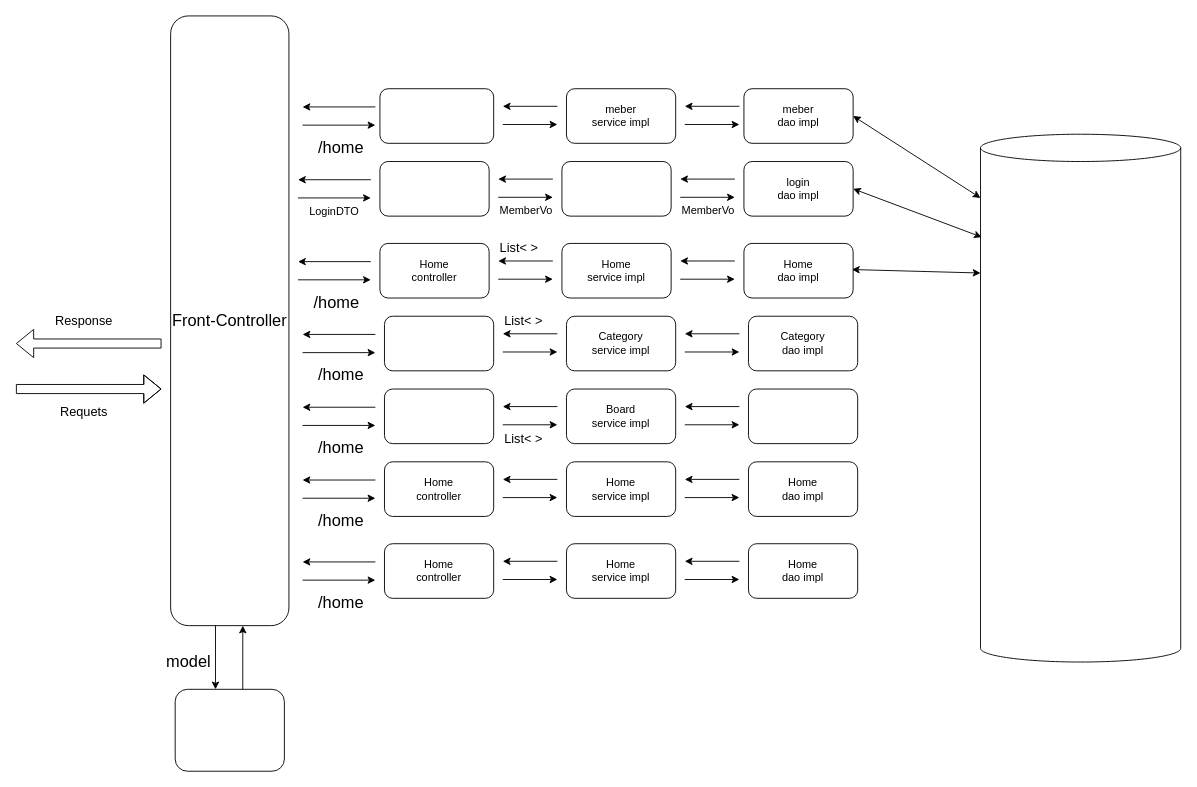
Some shapes in this 1197 by 787 pixel diagram are drawn without their labels. Here are the shapes that lost their labels. From the top down, the box of each, then its label:
(379, 88, 494, 143): meber controller
(379, 161, 489, 216): login controller
(561, 161, 671, 216): login service impl
(384, 315, 494, 371): Category controller
(384, 388, 494, 444): Board controller
(748, 388, 858, 444): Board dao impl
(980, 133, 1181, 662): MySql
(174, 688, 284, 771): view
